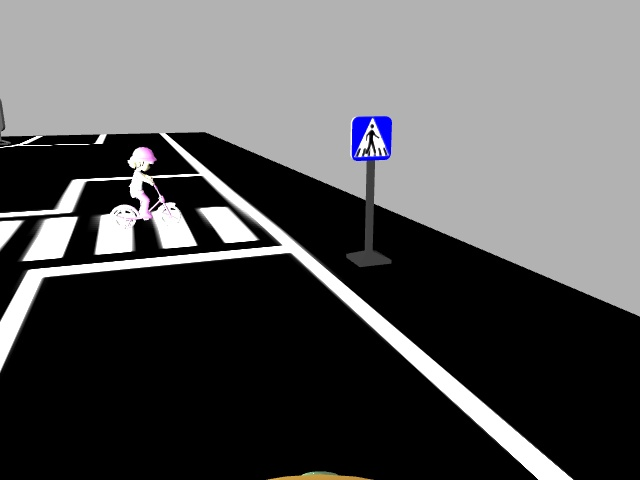Crosswalk: (341, 112, 398, 165)
Pedestrian: (113, 145, 183, 231)
